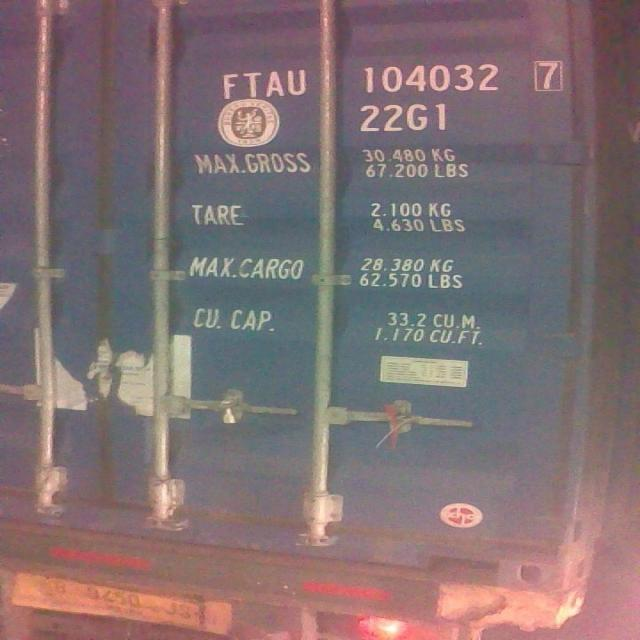seal: (382, 400, 408, 455), (212, 393, 247, 433)
